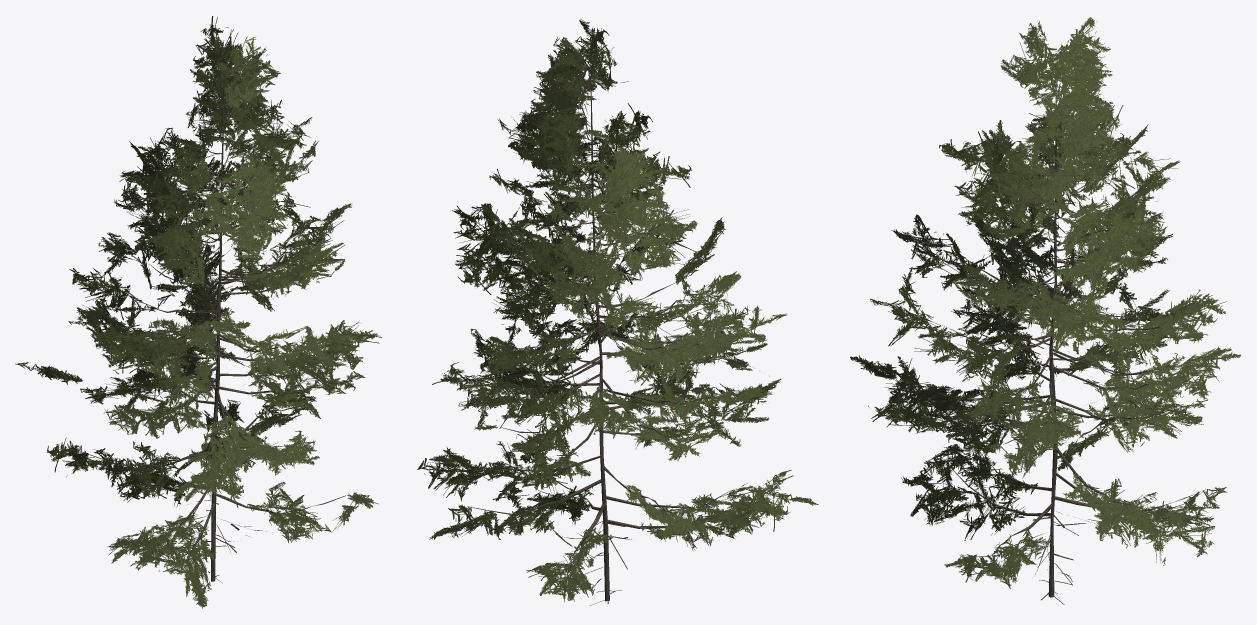
The picture shows the model from 3 angles, left to right: view 1: azimuth 30°, elevation 25°; view 2: azimuth 150°, elevation 25°; view 3: azimuth 270°, elevation 25°; orthographic projection. The views are drawn at different scales.
Parts seen in each view (by area): view 1: fir_sapling_medium__a_lod1; view 2: fir_sapling_medium__a_lod1; view 3: fir_sapling_medium__a_lod1.
Boxes of the visible parts, box(x1,y1,x2,y2) form: fir_sapling_medium__a_lod1: box(15, 16, 381, 608); fir_sapling_medium__a_lod1: box(417, 19, 818, 605); fir_sapling_medium__a_lod1: box(850, 17, 1240, 604).
Size of the model in its own units: 5.04 by 8.91 by 5.31.
2 materials, 2 textured.
